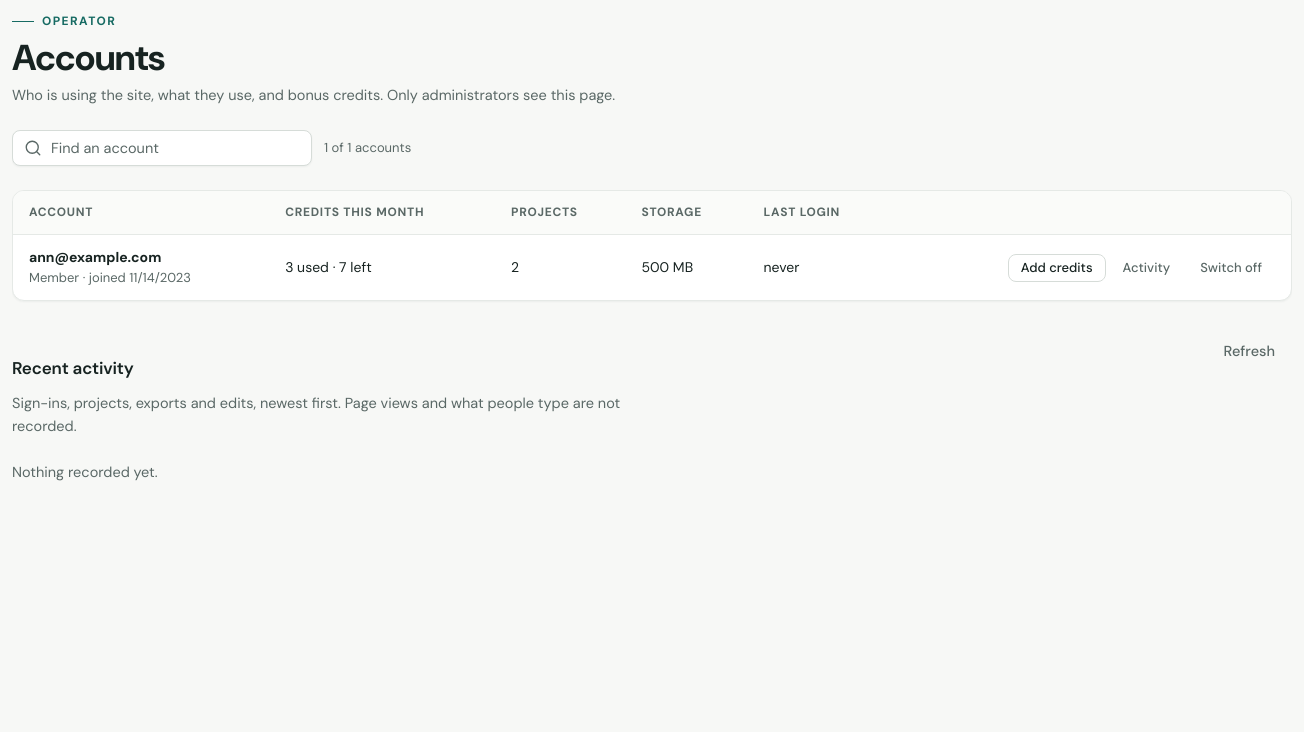
Test: AdminPage › switches an account off only after asking, and shows server errors
Click the button with aria-label "Switch off ann@example.com" at (1231, 268), box [1187,254,1275,282]
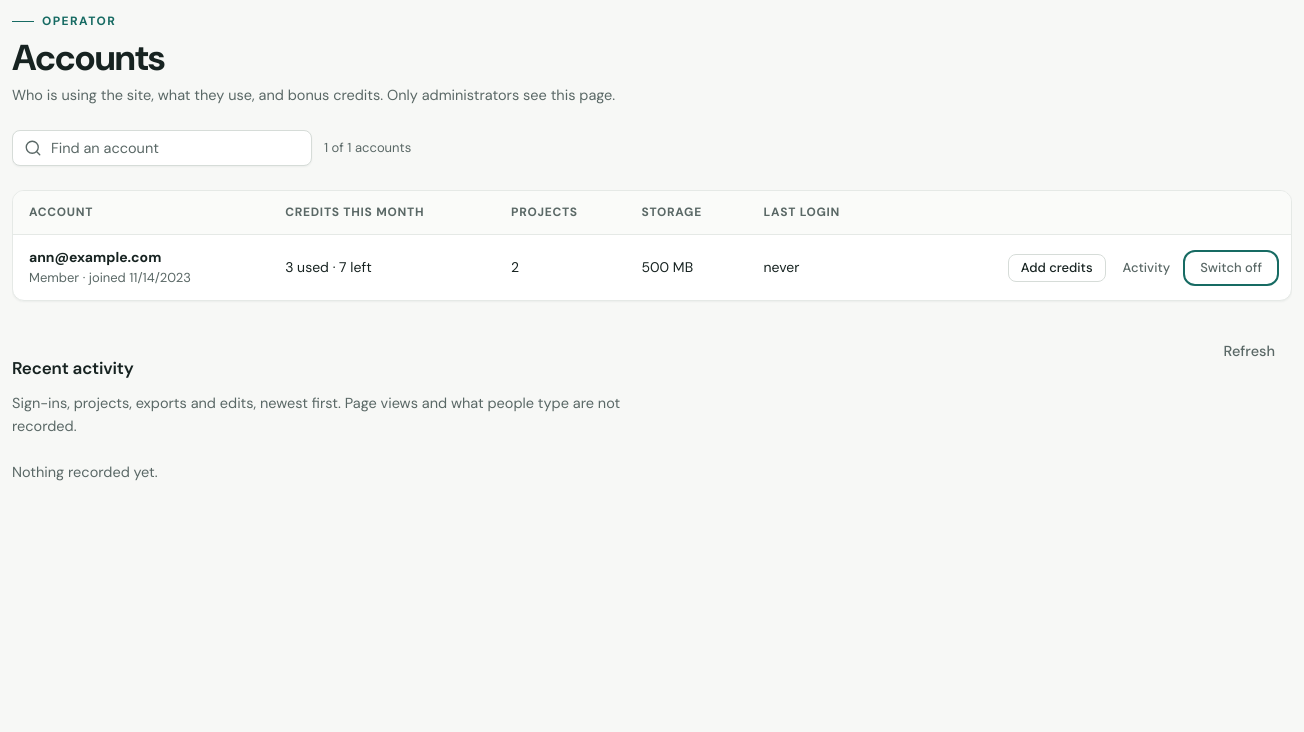
Click the button with aria-label "Switch off ann@example.com" at (1231, 268), box [1187,254,1275,282]
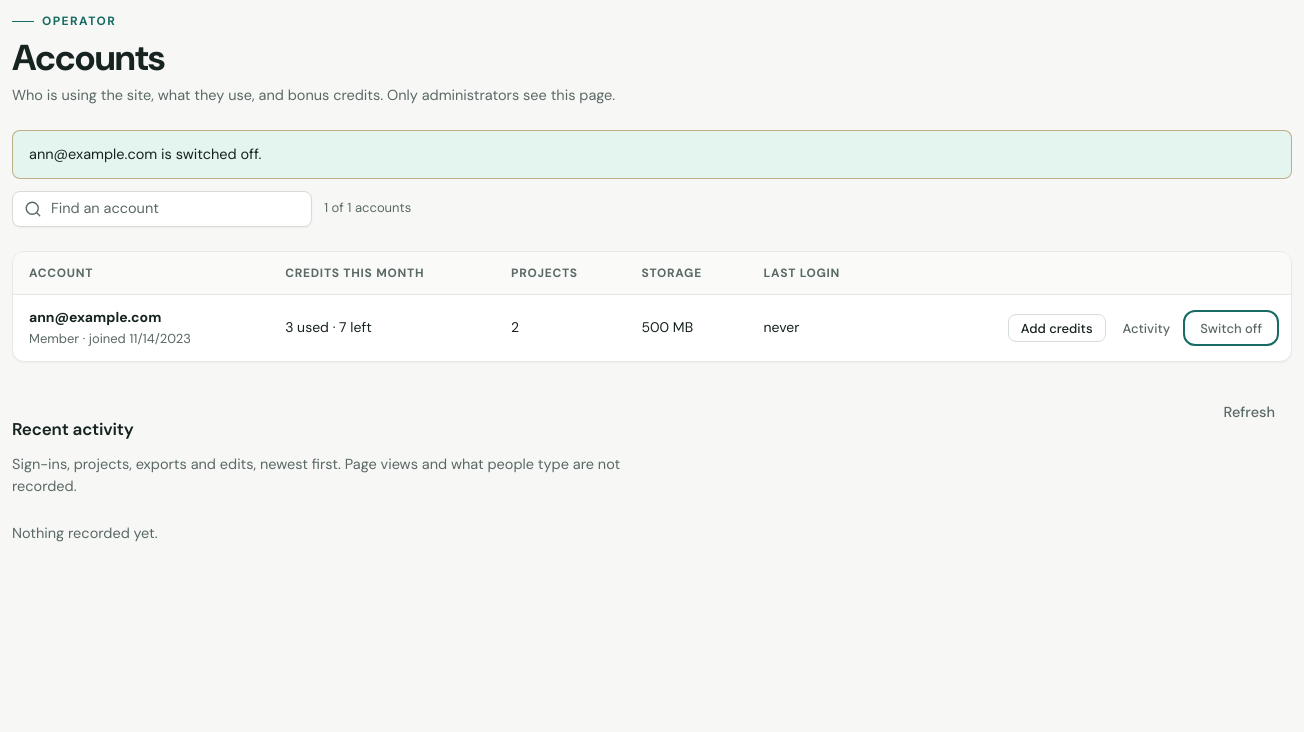
Click the button with aria-label "Add credits to ann@example.com" at (1057, 328), box [1008,314,1106,342]
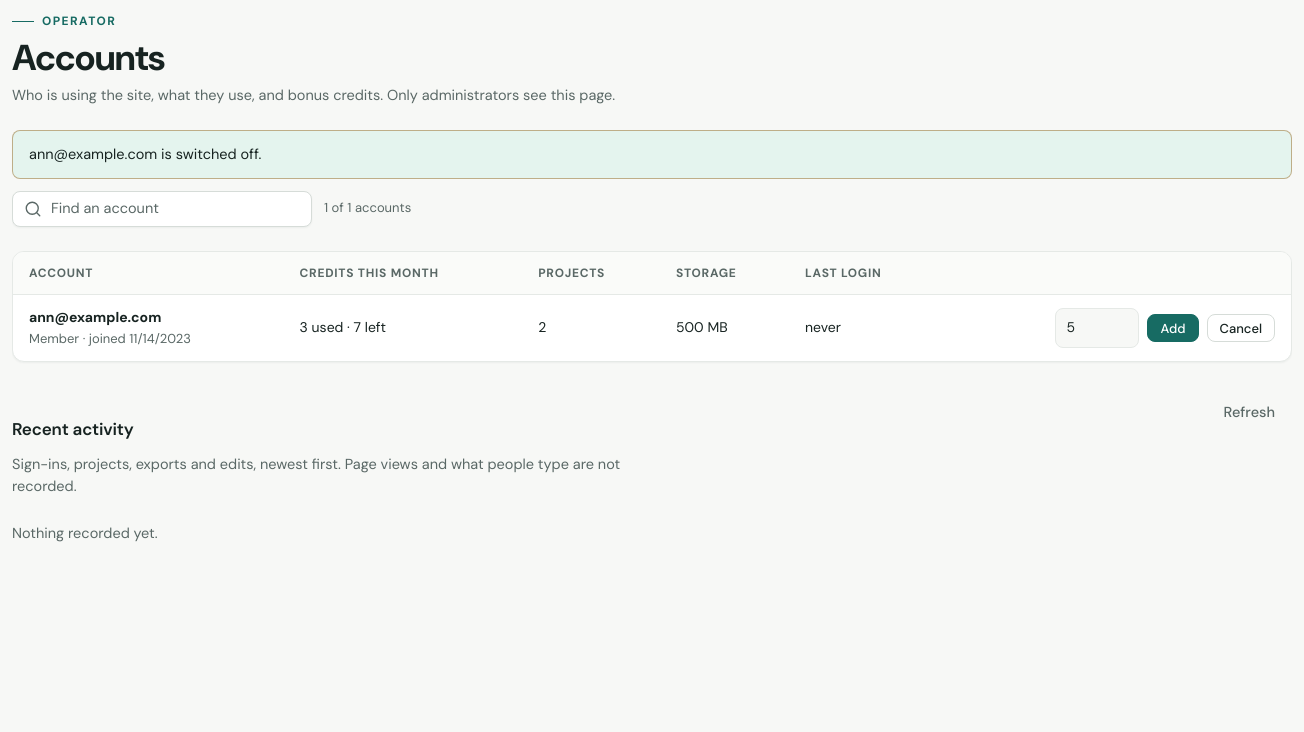
Click the button "Add" at (1173, 328), box [1148,314,1198,342]
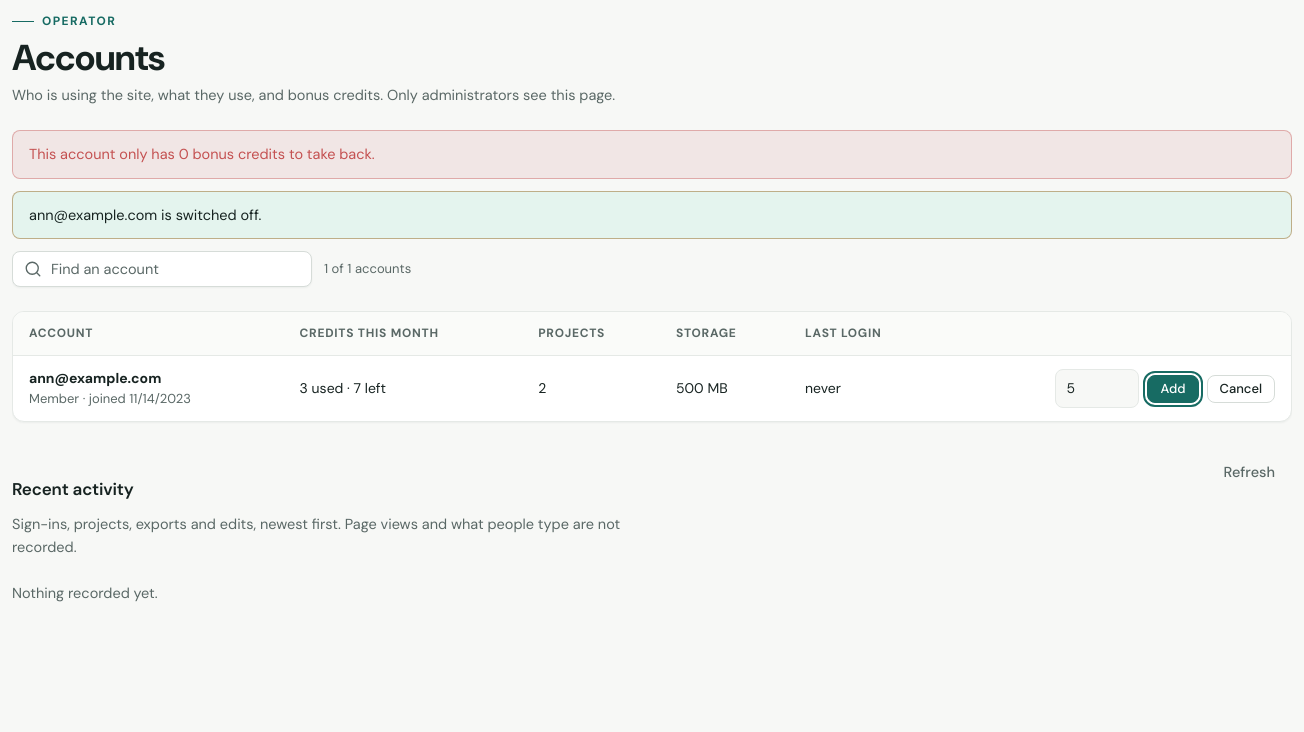
Now the message "This account only has 0 bonus credits to take back." is shown, box [12,130,1292,179]
